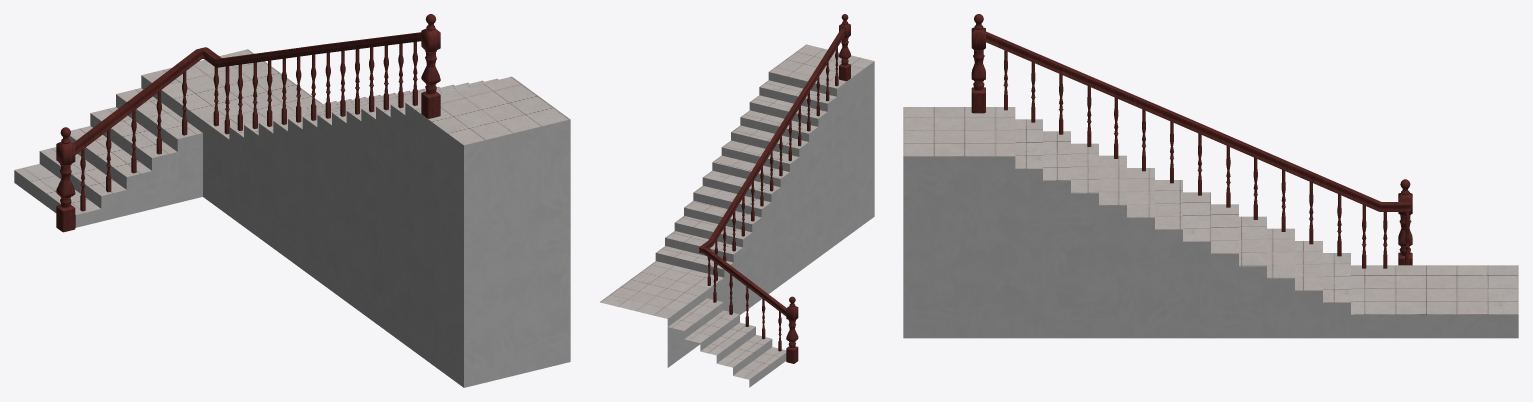
Rendered from hometown_stairs_01.FBX.
3 renders of one model, left to right at view 1: azimuth 30°, elevation 25°; view 2: azimuth 150°, elevation 25°; view 3: azimuth 270°, elevation 25°, orthographic. The views are drawn at different scales.
Parts seen in each view (by area): view 1: LStair001; view 2: LStair001; view 3: LStair001.
Part boxes in pixels (x1,y1,x2,y2): LStair001: (14,14,570,387); LStair001: (600,14,874,387); LStair001: (903,14,1518,338).
Size of the model in its own units: 3.26 by 7.33 by 4.3.
Materials: 1 (1 with a texture image).
